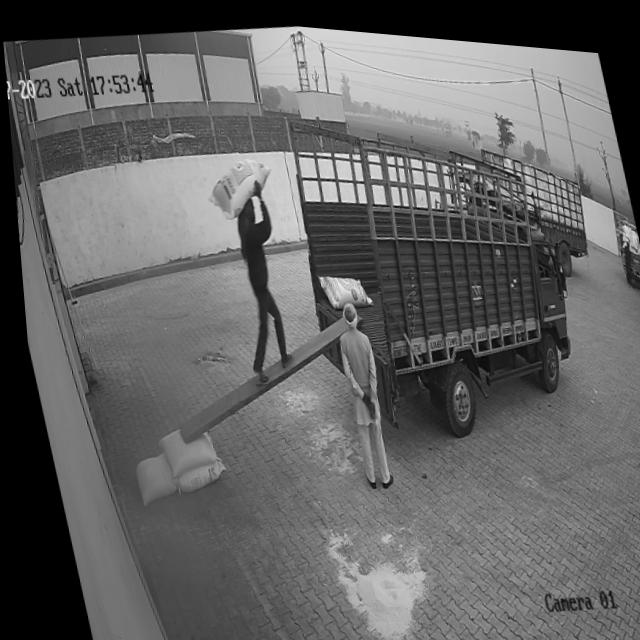sack: (198, 148, 277, 221), (149, 421, 213, 477), (124, 447, 172, 506), (312, 262, 370, 309), (166, 450, 222, 492)
